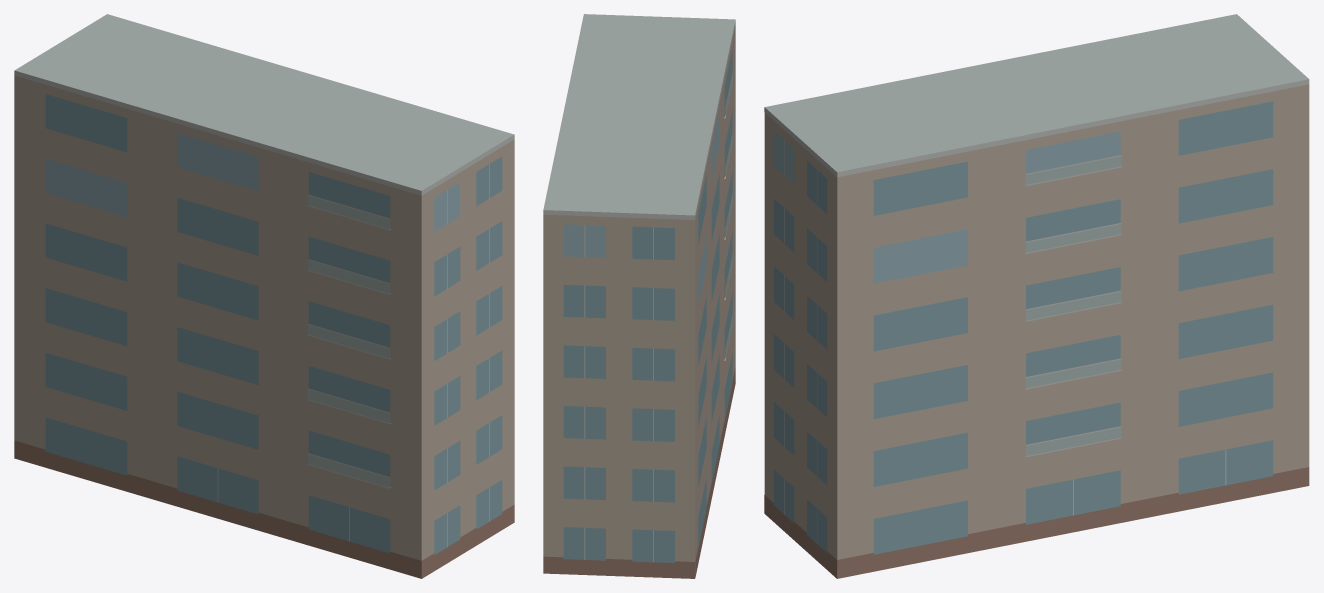
File: survey-upis-32635408.glb
3 renders of one model, left to right at view 1: azimuth 30°, elevation 25°; view 2: azimuth 150°, elevation 25°; view 3: azimuth 270°, elevation 25°, orthographic. The views are drawn at different scales.
Visible parts, largest first — view 1: survey-upis-32635408.tmp; view 2: survey-upis-32635408.tmp; view 3: survey-upis-32635408.tmp.
Boxes of the visible parts, left/top/right/bottom form: survey-upis-32635408.tmp: left=14, top=14, right=514, bottom=578; survey-upis-32635408.tmp: left=543, top=14, right=735, bottom=578; survey-upis-32635408.tmp: left=764, top=14, right=1309, bottom=578.
Size of the model in its own units: 16.3 by 19.52 by 23.71.
